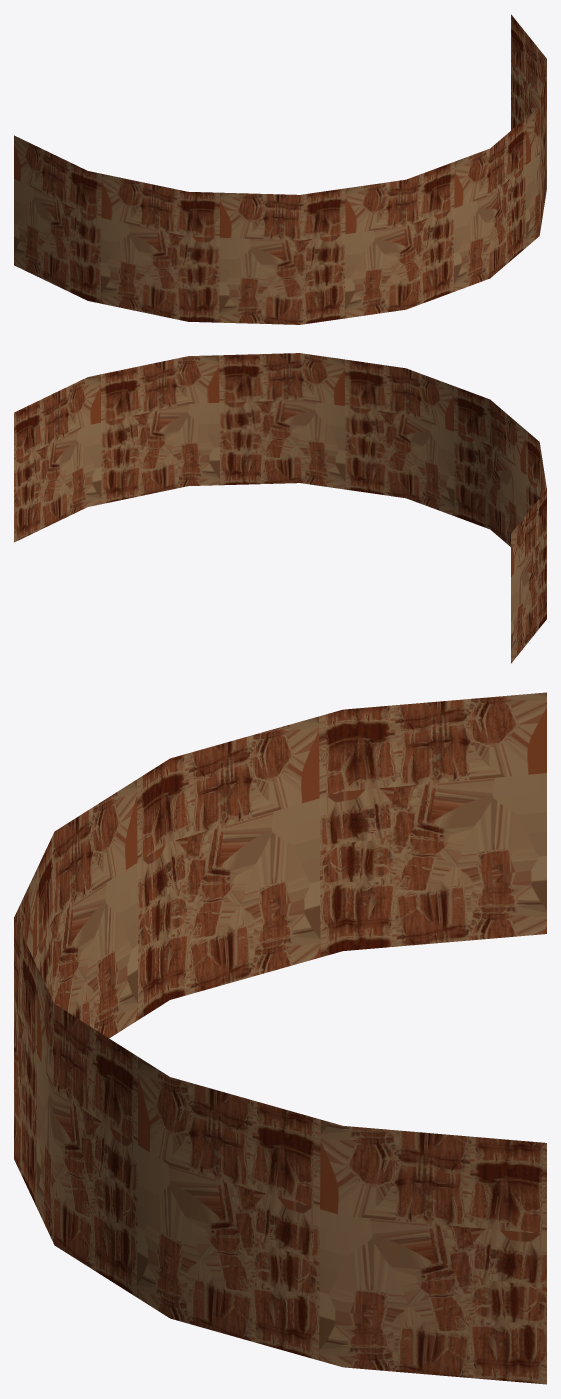
File: SM_ParedCircular.fbx
3 renders of one model, top to bottom at view 1: azimuth 30°, elevation 25°; view 2: azimuth 150°, elevation 25°; view 3: azimuth 270°, elevation 25°, orthographic. The views are drawn at different scales.
Parts seen in each view (by area): view 1: SM_ParedCircular; view 2: SM_ParedCircular; view 3: SM_ParedCircular.
Boxes of the visible parts, x1,y1,x2,y2 form: SM_ParedCircular: (14, 14, 546, 324); SM_ParedCircular: (14, 353, 546, 663); SM_ParedCircular: (14, 692, 546, 1384).
Bounding box in the file's own units: 1200 × 300 × 600.
